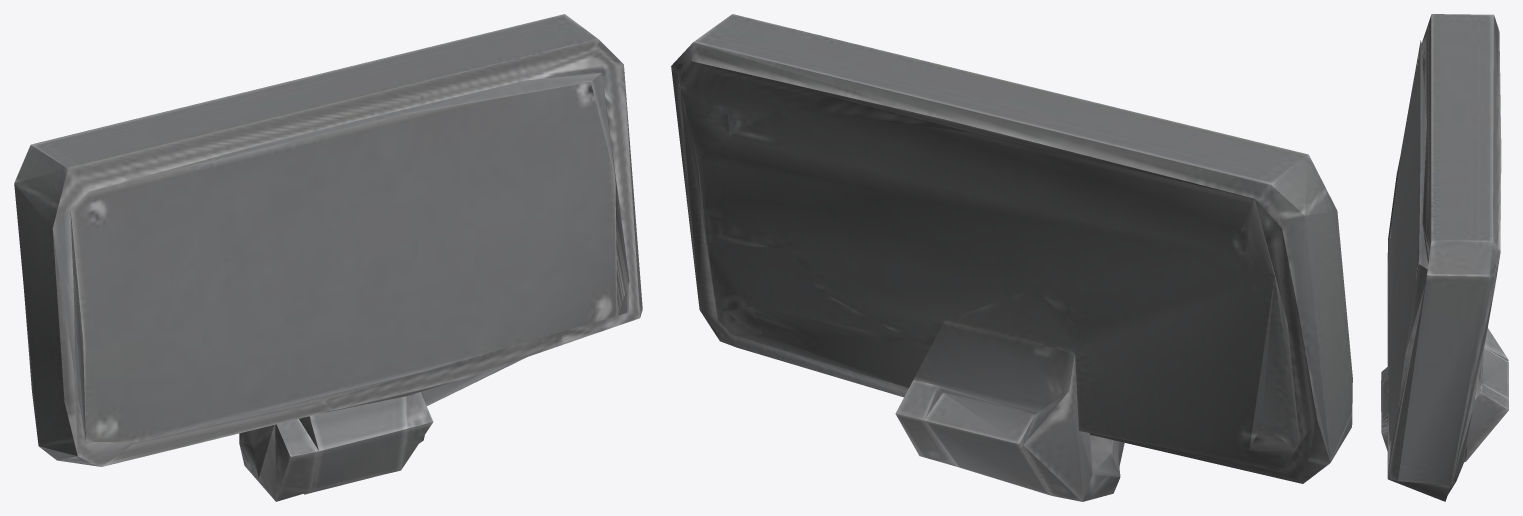
The model's file is shared_flak_tower_large_option__radar_aperture_lod2.glb.
3 renders of one model, left to right at view 1: azimuth 30°, elevation 25°; view 2: azimuth 150°, elevation 25°; view 3: azimuth 270°, elevation 25°, orthographic. The views are drawn at different scales.
Visible parts, largest first — view 1: mesh_node; view 2: mesh_node; view 3: mesh_node.
Boxes of the visible parts, x1,y1,x2,y2 form: mesh_node: [14, 14, 642, 501]; mesh_node: [671, 14, 1352, 501]; mesh_node: [1381, 14, 1508, 501].
Bounding box in the file's own units: 2.32 × 1.41 × 0.5043.
1 material, 1 textured.
